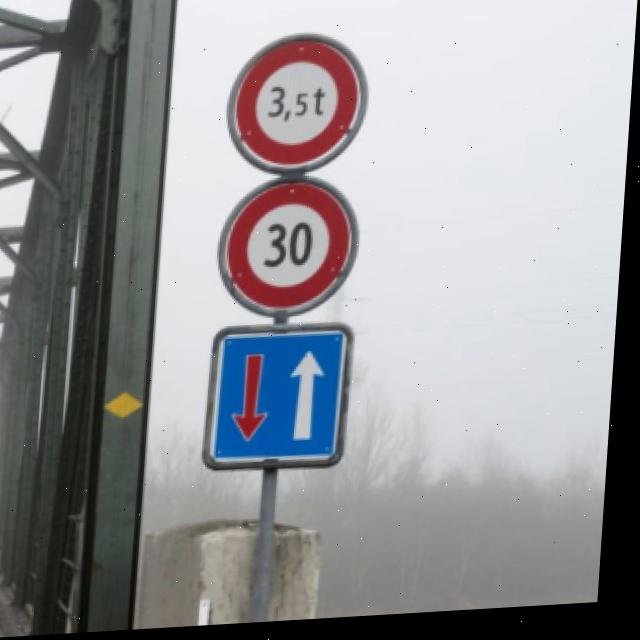Speed limit 30: (217, 177, 371, 326)
